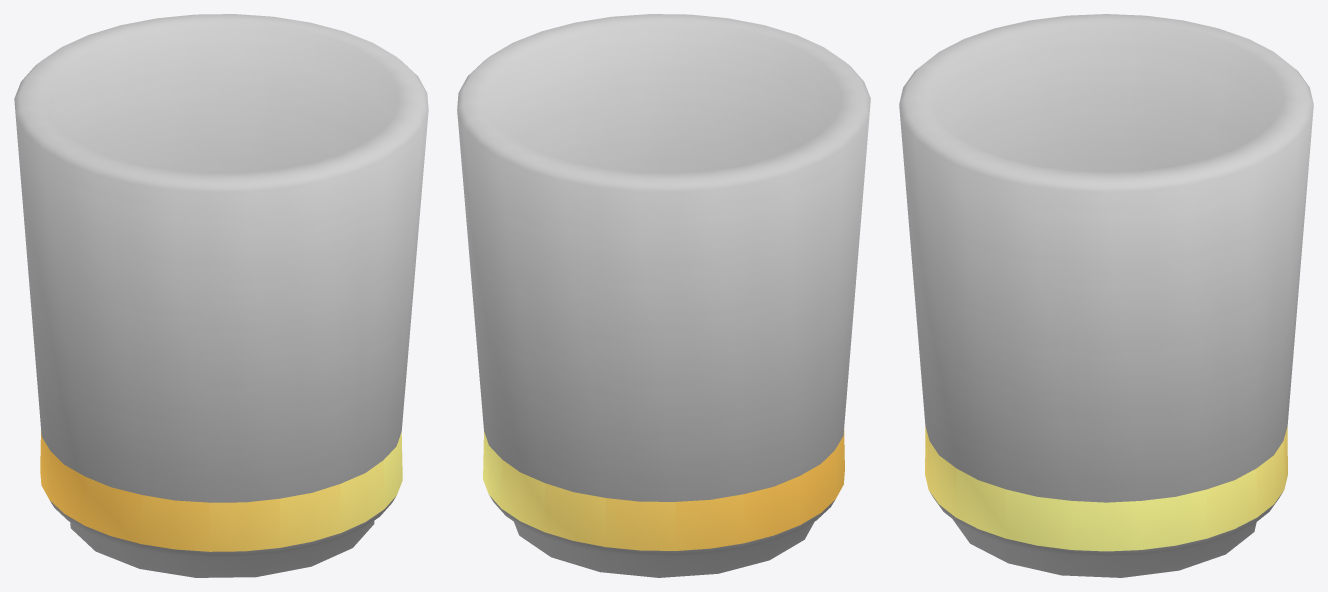
Rendered from boonecup.glb.
The picture shows the model from 3 angles, left to right: view 1: azimuth 30°, elevation 25°; view 2: azimuth 150°, elevation 25°; view 3: azimuth 270°, elevation 25°; orthographic projection.
Visible parts, largest first — view 1: Cylinder; view 2: Cylinder; view 3: Cylinder.
Part boxes in pixels (x1,y1,x2,y2): Cylinder: [14, 14, 428, 577]; Cylinder: [457, 14, 870, 577]; Cylinder: [899, 14, 1313, 577].
Size of the model in its own units: 2.26 by 2.5 by 2.26.
1 material, 1 textured.
